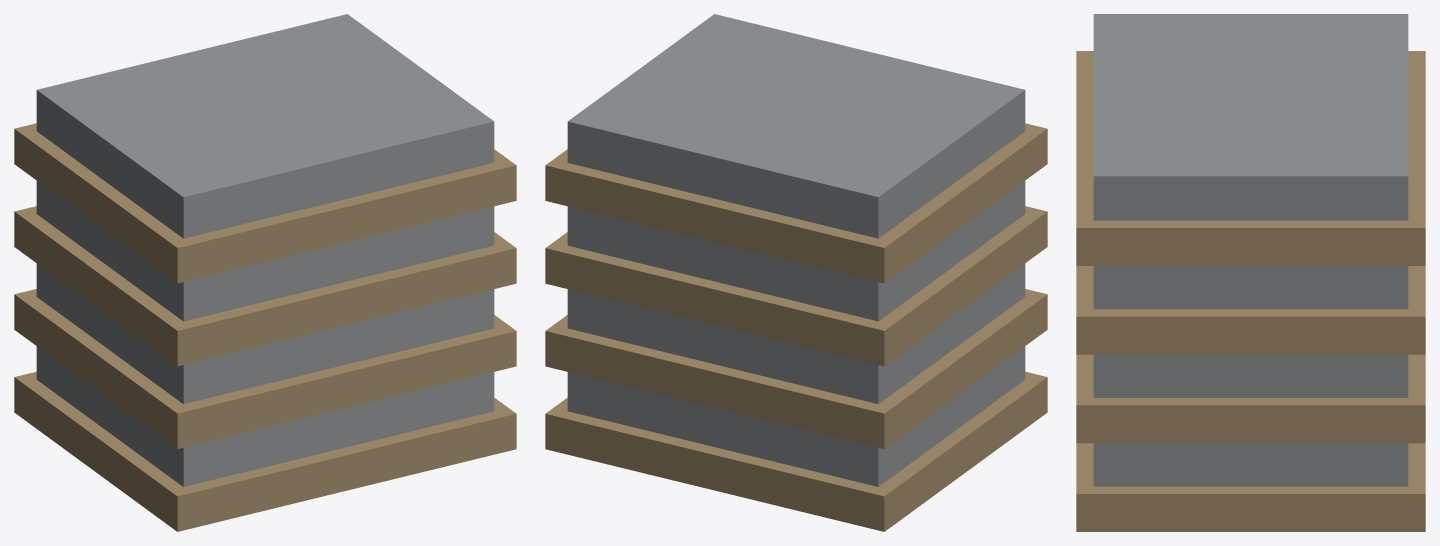
Rendered from hk-pallet-stack.glb.
3 views of the same model, side by side, from view 1: azimuth 30°, elevation 25°; view 2: azimuth 150°, elevation 25°; view 3: azimuth 270°, elevation 25° (orthographic). The views are drawn at different scales.
Parts seen in each view (by area): view 1: hk-pallet-stack; view 2: hk-pallet-stack; view 3: hk-pallet-stack.
Part boxes in pixels (<box>): hk-pallet-stack: <box>14,14,516,531</box>; hk-pallet-stack: <box>545,14,1047,531</box>; hk-pallet-stack: <box>1076,14,1425,531</box>.
Size of the model in its own units: 1.2 by 1.1 by 1.
